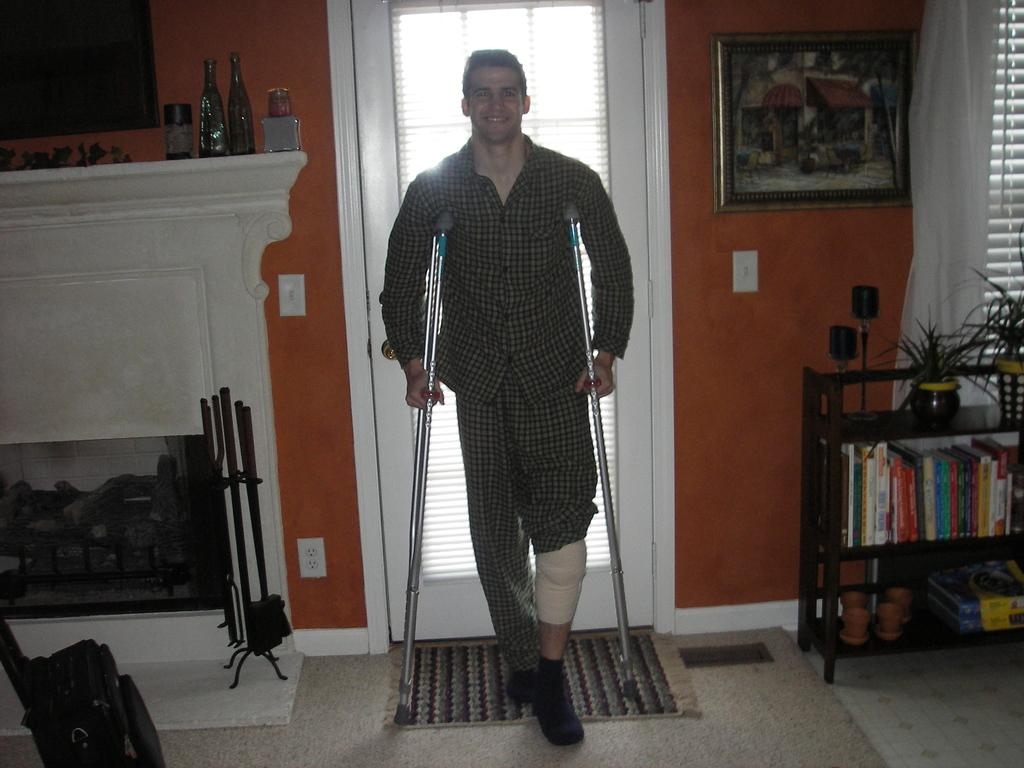crutches: (362, 44, 642, 753)
